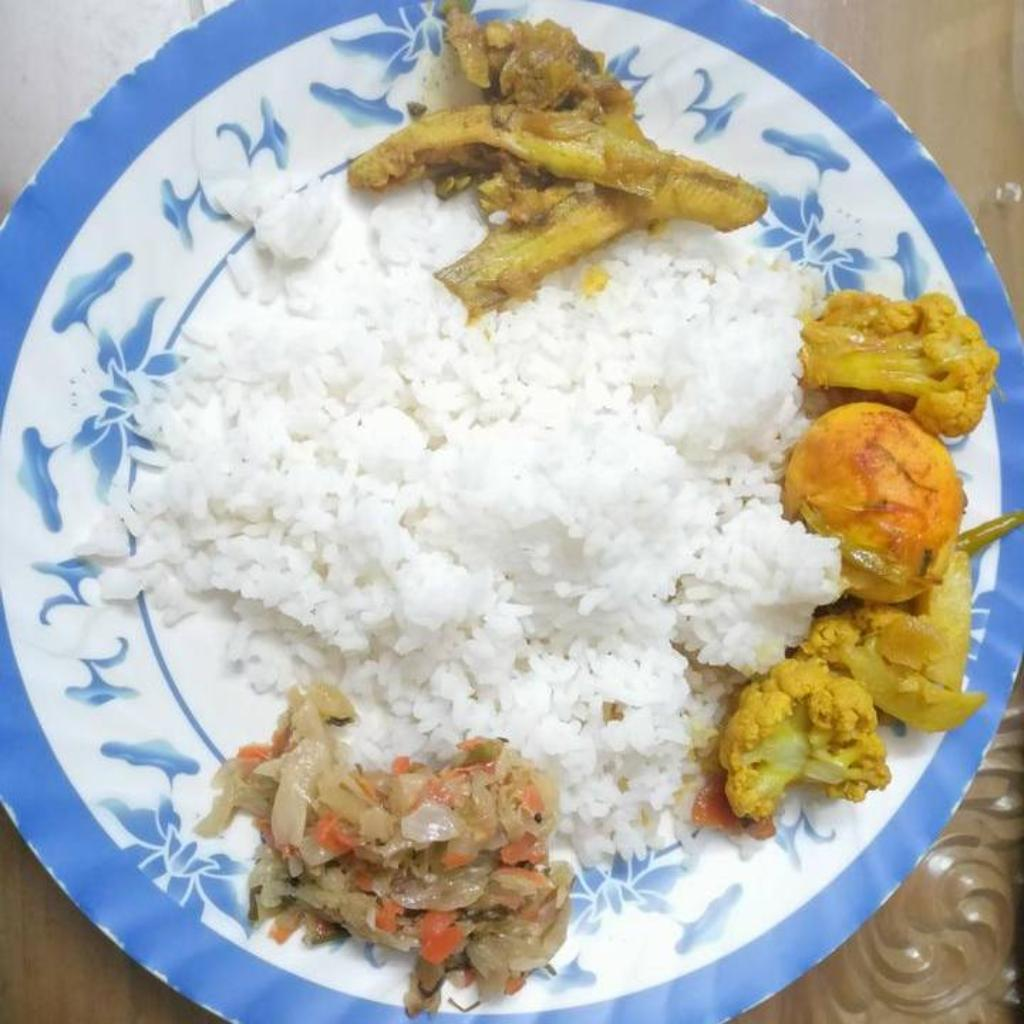achar: (340, 14, 761, 317)
cauliflower: (723, 557, 983, 832), (794, 280, 999, 435)
egg-boiled: (788, 395, 972, 610)
rice: (100, 169, 843, 868)
vaji: (191, 677, 573, 1019)
